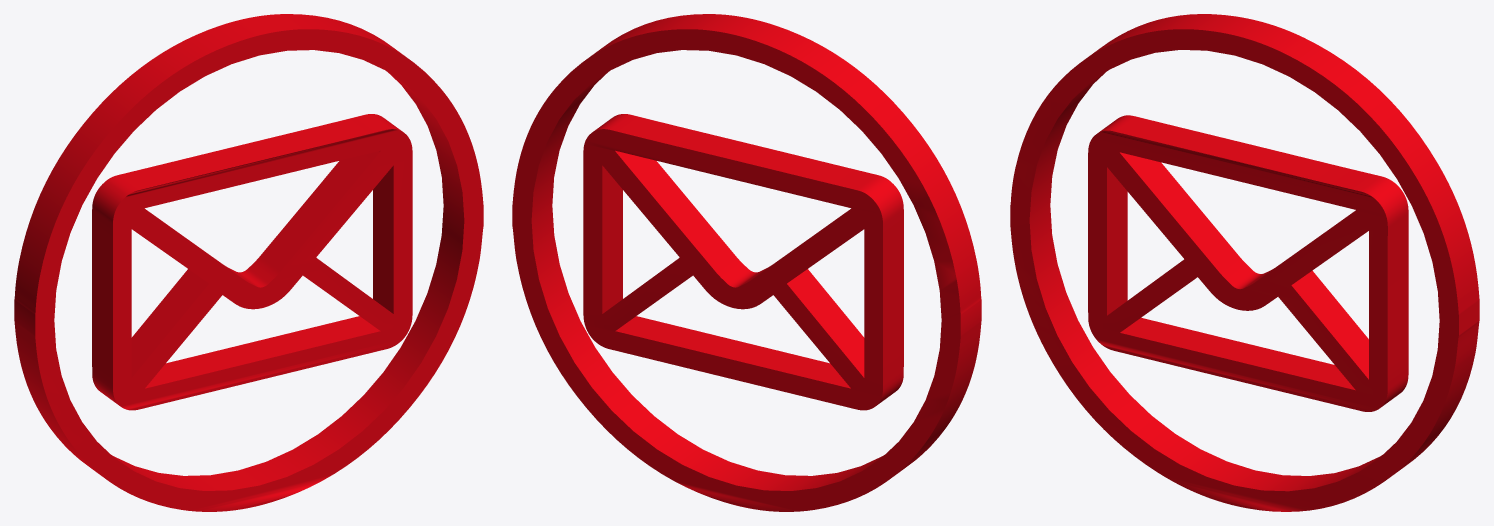
The model's file is mail.glb.
3 views of the same model, side by side, from view 1: azimuth 30°, elevation 25°; view 2: azimuth 150°, elevation 25°; view 3: azimuth 330°, elevation 25° (orthographic).
Parts seen in each view (by area): view 1: Curve.001; view 2: Curve.001; view 3: Curve.001.
Part boxes in pixels (<box>): Curve.001: <box>14,14,483,511</box>; Curve.001: <box>512,14,981,511</box>; Curve.001: <box>1010,14,1479,511</box>.
Bounding box in the file's own units: 2.51 × 2.52 × 0.2013.
